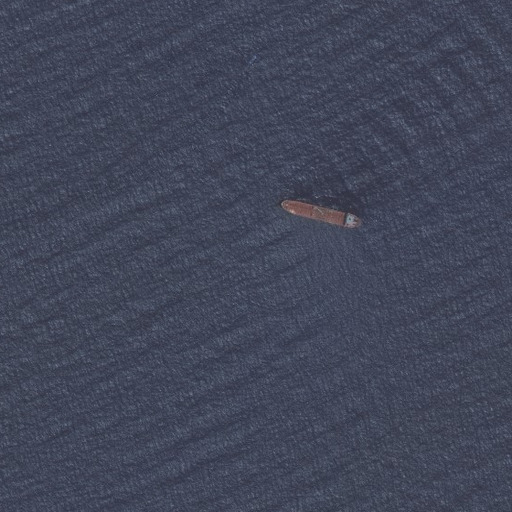ship: (278, 196, 366, 233)
